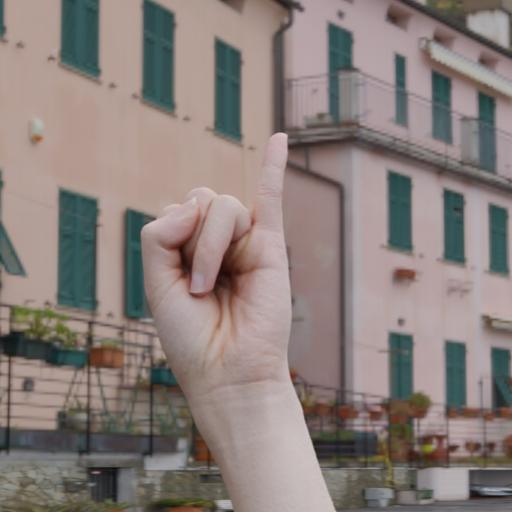I: (130, 126, 308, 512)
